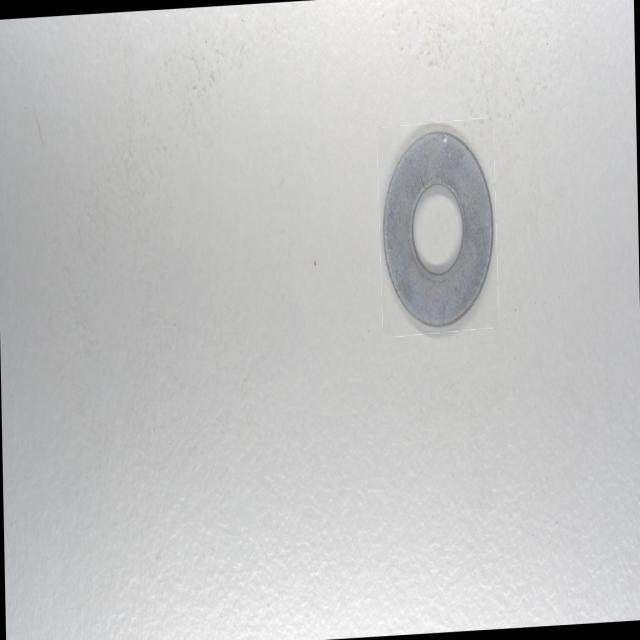washer: (380, 123, 496, 332)
